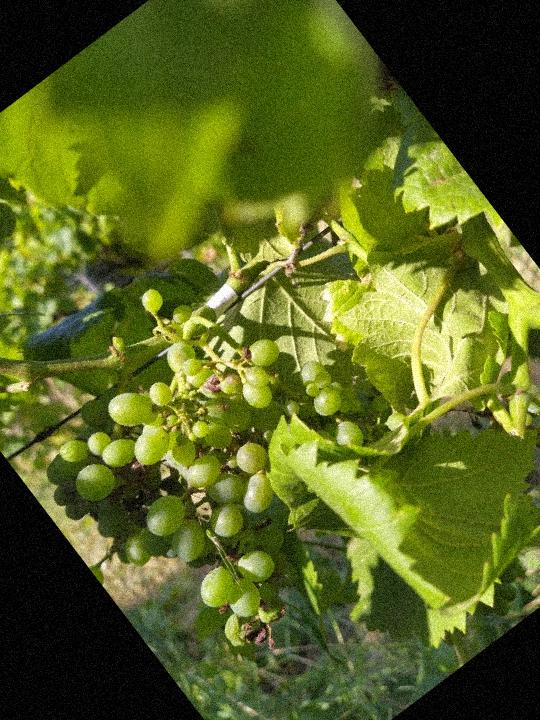grape: (0, 215, 465, 709)
